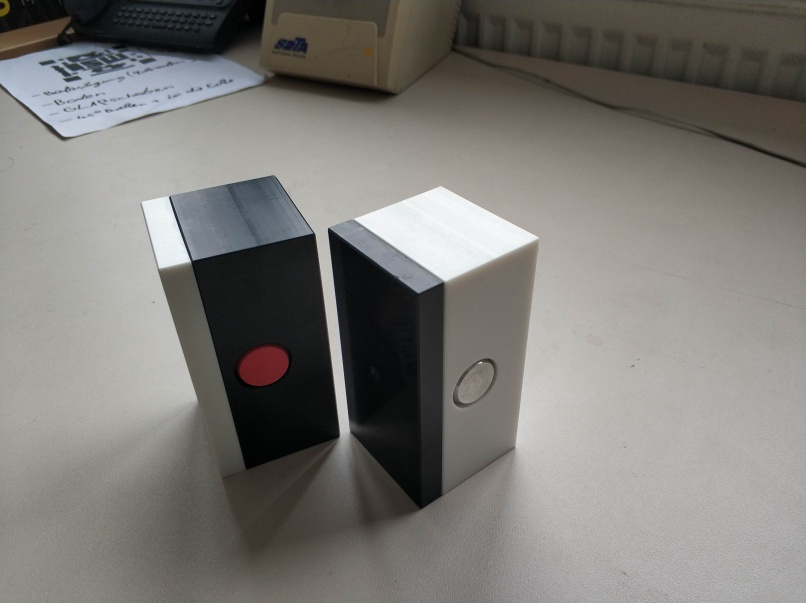black+white+silver: (326, 185, 542, 514)
white+black+red: (138, 174, 341, 484)
